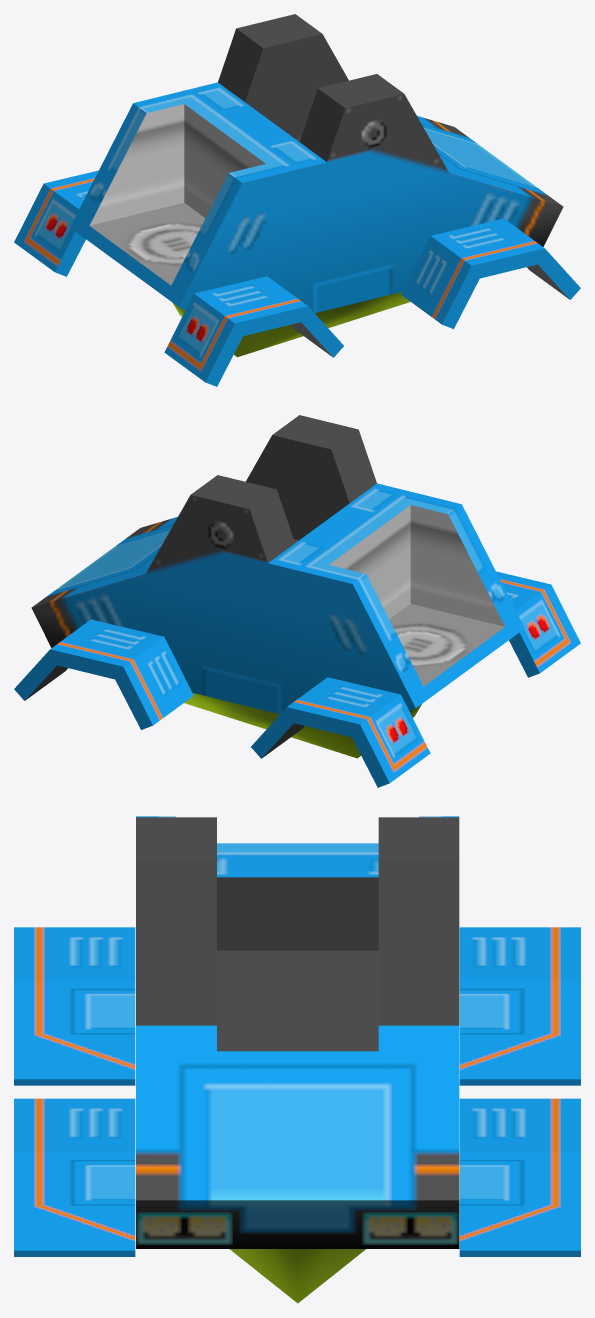
The model's file is lem1i.obj.
3 renders of one model, top to bottom at view 1: azimuth 30°, elevation 25°; view 2: azimuth 150°, elevation 25°; view 3: azimuth 270°, elevation 25°, orthographic. The views are drawn at different scales.
Parts seen in each view (by area): view 1: Case_ColobotMesh_, Mudguards_ColobotMesh_.001, Ant_ColobotMesh_.002; view 2: Case_ColobotMesh_, Mudguards_ColobotMesh_.001, Ant_ColobotMesh_.002; view 3: Case_ColobotMesh_, Mudguards_ColobotMesh_.001, Ant_ColobotMesh_.002.
Part boxes in pixels (x1,y1,x2,y2): Case_ColobotMesh_: (70, 14, 563, 312); Mudguards_ColobotMesh_.001: (14, 170, 580, 386); Ant_ColobotMesh_.002: (173, 292, 410, 357); Case_ColobotMesh_: (31, 415, 524, 714); Mudguards_ColobotMesh_.001: (14, 571, 580, 787); Ant_ColobotMesh_.002: (184, 693, 421, 758); Case_ColobotMesh_: (136, 816, 459, 1248); Mudguards_ColobotMesh_.001: (14, 927, 580, 1256); Ant_ColobotMesh_.002: (229, 1249, 365, 1303).
Size of the model in its own units: 8.46 by 5.3 by 7.01.
